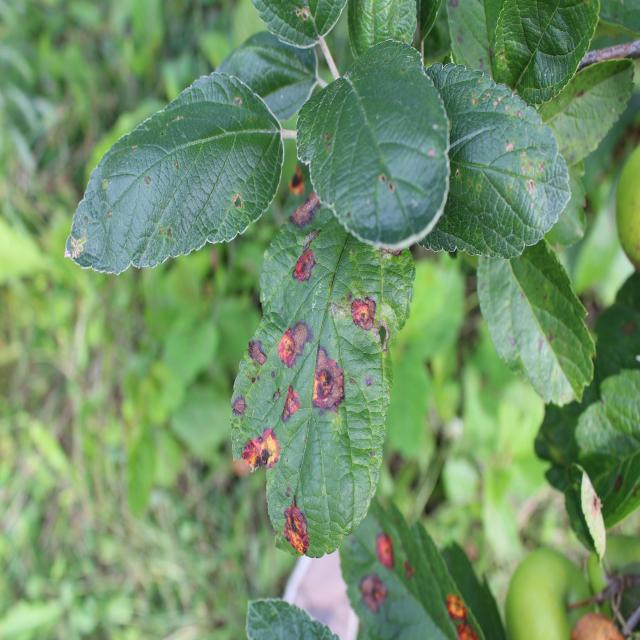rust: (228, 195, 418, 562), (294, 39, 451, 252), (340, 492, 480, 640)
